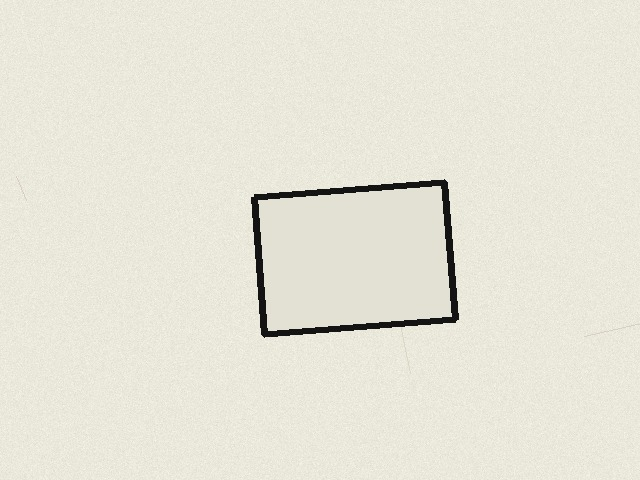parking_area: (254, 182, 455, 334)
